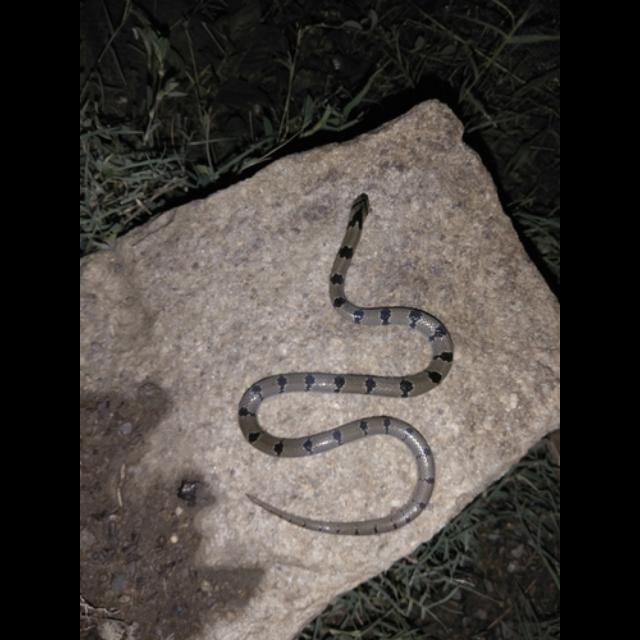snake: (231, 193, 457, 537)
